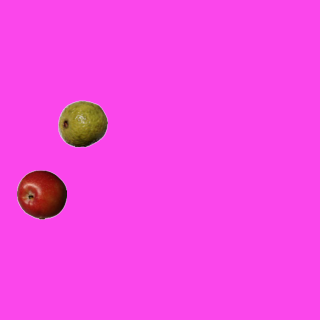Apple Braeburn: (16, 169, 66, 219)
Guava: (57, 98, 107, 148)
